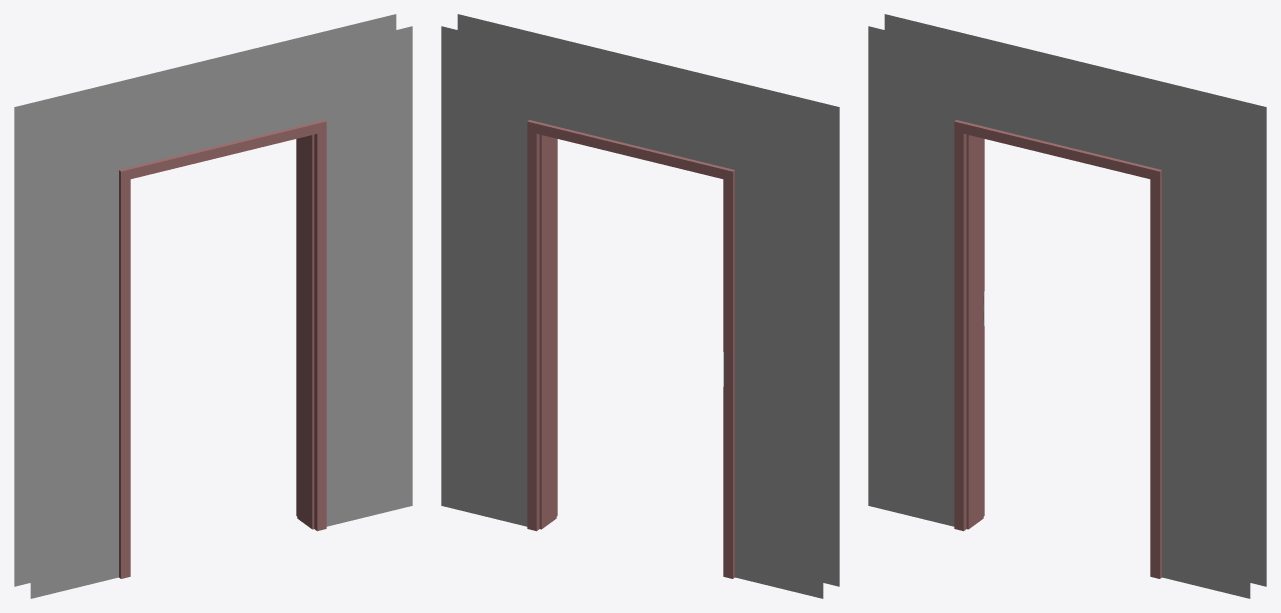
The model's file is 15Wall200x240-Door100x200B.fbx.
The picture shows the model from 3 angles, left to right: view 1: azimuth 30°, elevation 25°; view 2: azimuth 150°, elevation 25°; view 3: azimuth 330°, elevation 25°; orthographic projection.
Visible parts, largest first — view 1: outdoorWallDoorframe, DoorFrame, indoorWallDoorframe; view 2: indoorWallDoorframe, DoorFrame, outdoorWallDoorframe; view 3: outdoorWallDoorframe, DoorFrame, indoorWallDoorframe.
Boxes of the visible parts, x1=… form: outdoorWallDoorframe: x1=30, y1=26, x2=412, y2=598; DoorFrame: x1=119, y1=120, x2=326, y2=578; indoorWallDoorframe: x1=14, y1=14, x2=396, y2=586; indoorWallDoorframe: x1=441, y1=26, x2=823, y2=598; DoorFrame: x1=527, y1=120, x2=734, y2=578; outdoorWallDoorframe: x1=457, y1=14, x2=839, y2=586; outdoorWallDoorframe: x1=868, y1=26, x2=1250, y2=598; DoorFrame: x1=954, y1=120, x2=1161, y2=578; indoorWallDoorframe: x1=884, y1=14, x2=1266, y2=586.
Bounding box in the file's own units: 2 × 2.4 × 0.19.
